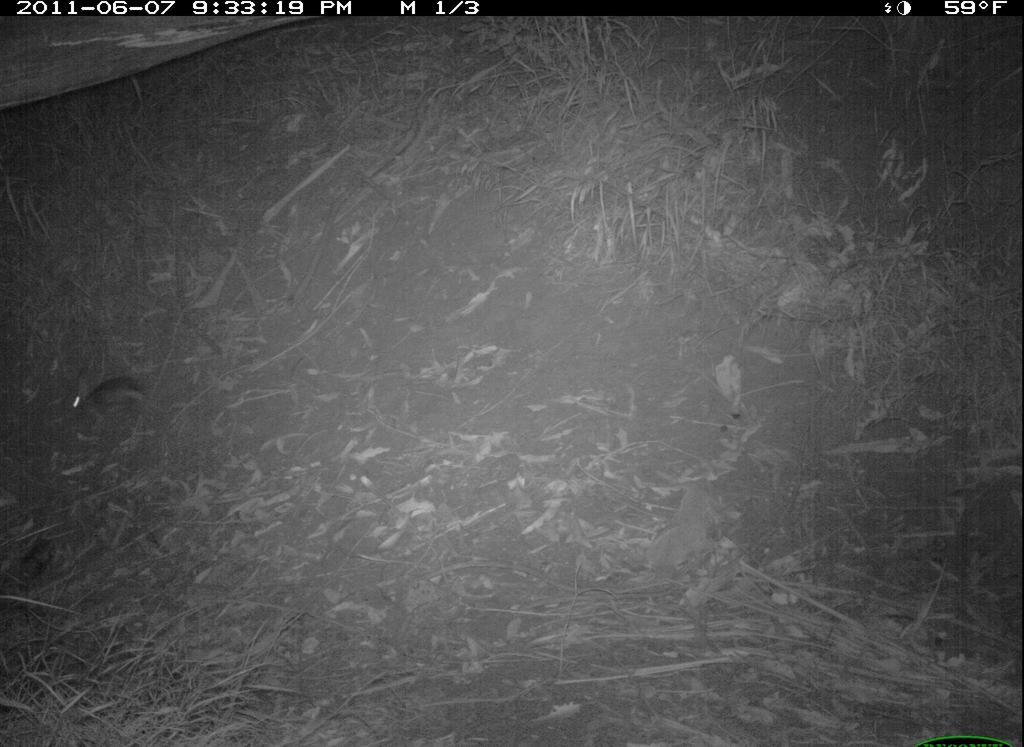rabbit: (63, 365, 152, 431)
